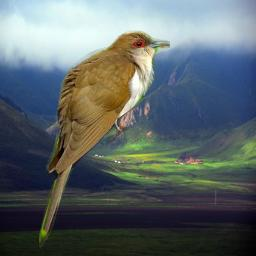Cuckoo: (39, 29, 170, 249)
